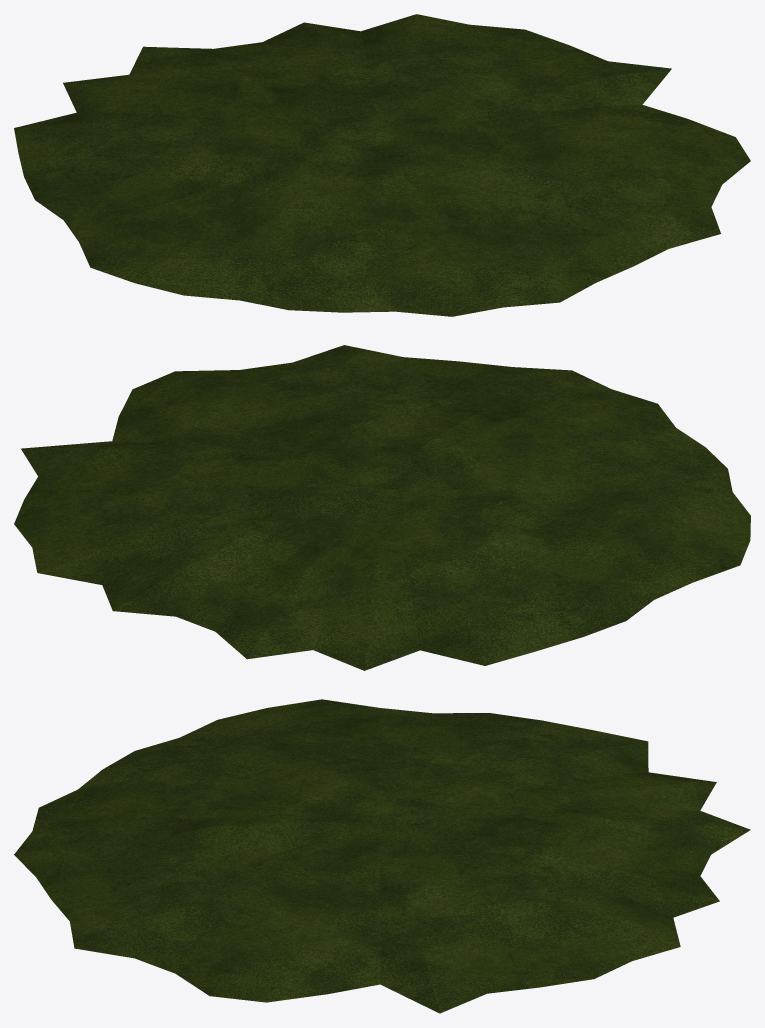
Rendered from ground_moss_carpet_v02.fbx.
The picture shows the model from 3 angles, top to bottom: view 1: azimuth 30°, elevation 25°; view 2: azimuth 150°, elevation 25°; view 3: azimuth 270°, elevation 25°; orthographic projection. The views are drawn at different scales.
Visible parts, largest first — view 1: ground_moss_carpet_v02; view 2: ground_moss_carpet_v02; view 3: ground_moss_carpet_v02.
Part boxes in pixels (<box>): ground_moss_carpet_v02: <box>14,14,750,316</box>; ground_moss_carpet_v02: <box>14,345,750,670</box>; ground_moss_carpet_v02: <box>14,699,750,1013</box>.
Size of the model in its own units: 107 by 5.23 by 106.
Materials: 1 (1 with a texture image).
